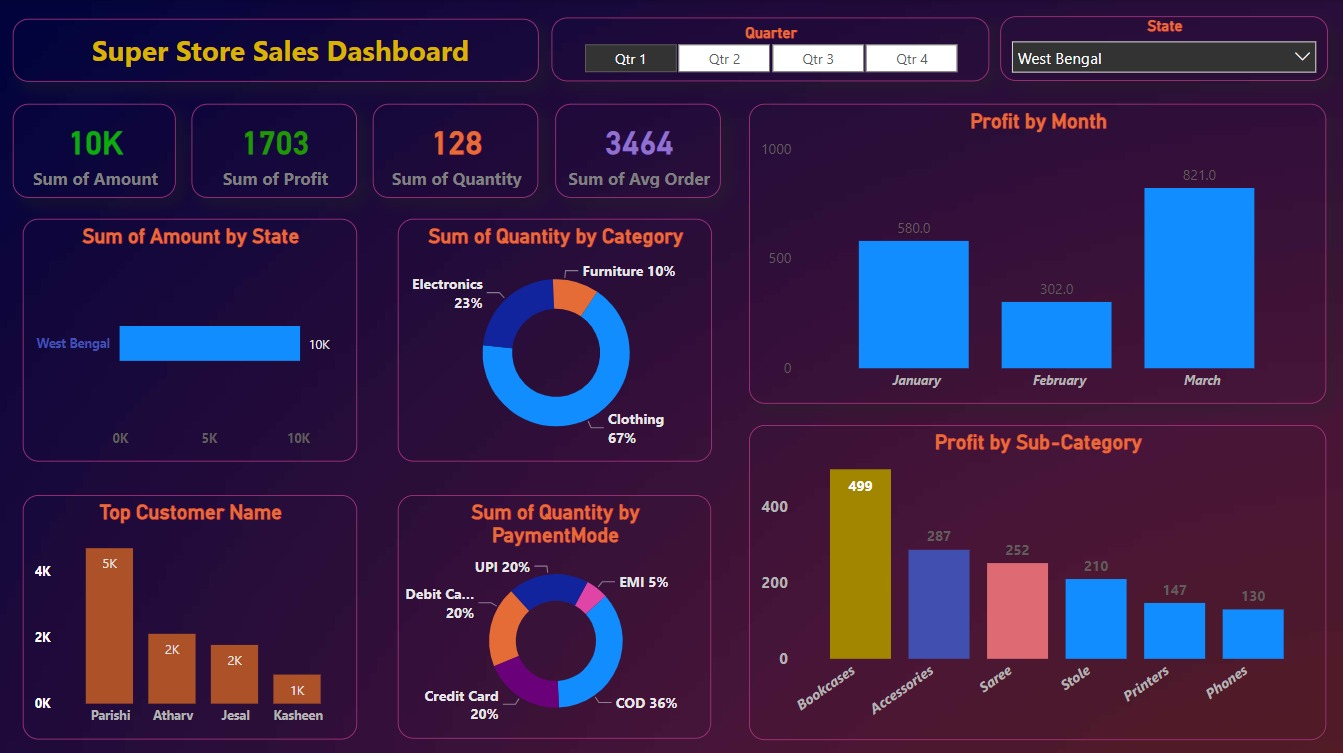

What the dashboard file says about the page in this screenshot:
{"tool":"powerbi","page":{"name":"Page 1","canvas":[1280,720],"ordinal":0},"visuals":[{"type":"textbox","box":[13.5,17.4,500.9,60.4],"z":0,"group":"g1"},{"type":"columnChart","title":"Profit by Month","fields":{"Category":["Orders.Order Date.Variation.Date Hierarchy.Month"],"Y":["Sum(Details.Profit)"]},"box":[714,98.8,549.8,285.6],"z":1000,"group":"g1"},{"type":"columnChart","title":"Profit by Sub-Category","fields":{"Category":["Details.Sub-Category"],"Y":["Sum(Details.Profit)"]},"box":[714,404.1,549.5,300.4],"z":2000,"group":"g1"},{"type":"donutChart","fields":{"Category":["Details.Category"],"Y":["Sum(Details.Quantity)"]},"box":[379.1,208.6,299.2,231.3],"z":3000,"group":"g1"},{"type":"donutChart","fields":{"Y":["Sum(Details.Quantity)"],"Category":["Details.PaymentMode"]},"box":[379.6,471.3,298.7,232.1],"z":4000,"group":"g1"},{"type":"card","fields":{"Values":["Sum(Details.Amount)"]},"box":[13.1,98.9,155,89.4],"z":5000,"group":"g1"},{"type":"card","fields":{"Values":["Sum(Details.Profit)"]},"box":[183.6,98.9,157.3,89.4],"z":6000,"group":"g1"},{"type":"card","fields":{"Values":["Sum(Details.Quantity)"]},"box":[356.4,98.9,157.3,89.4],"z":7000,"group":"g1"},{"type":"card","fields":{"Values":["Sum(Details.Avg Order)"]},"box":[529.2,98.9,157.3,89.4],"z":8000,"group":"g1"},{"type":"clusteredBarChart","fields":{"Category":["Orders.State"],"Y":["Sum(Details.Amount)"]},"box":[22.6,208.6,318.3,231.3],"z":9000,"group":"g1"},{"type":"columnChart","title":"Top Customer Name","fields":{"Category":["Orders.CustomerName"],"Y":["Sum(Details.Amount)"]},"box":[22.6,470.9,318.3,232.4],"z":10000,"group":"g1"},{"type":"slicer","title":"Quarter","fields":{"Values":["Orders.Order Date.Variation.Date Hierarchy.Quarter"]},"box":[525.6,17.1,416.5,60.7],"z":11000,"group":"g1"},{"type":"slicer","title":"State","fields":{"Values":["Orders.State"]},"box":[953.4,15.5,311.8,61.9],"z":13000,"group":"g1"},{"type":"group","id":"g1","title":"Group 1","box":[13.1,15.5,1252,689.1],"z":13001}]}

Visuals, with their boxes in screenshot pixels (x1, y1, x2, y2), scaled from the page's 1280x720 canvas onto the 1343x753 screenshot:
textbox: [14, 18, 540, 81]
"Profit by Month" columnChart: [749, 103, 1326, 402]
"Profit by Sub-Category" columnChart: [749, 423, 1326, 737]
donutChart - Details.Category x Sum(Details.Quantity): [398, 218, 712, 460]
donutChart - Sum(Details.Quantity) x Details.PaymentMode: [398, 493, 712, 736]
card - Sum(Details.Amount): [14, 103, 176, 197]
card - Sum(Details.Profit): [193, 103, 358, 197]
card - Sum(Details.Quantity): [374, 103, 539, 197]
card - Sum(Details.Avg Order): [555, 103, 720, 197]
clusteredBarChart - Orders.State x Sum(Details.Amount): [24, 218, 358, 460]
"Top Customer Name" columnChart: [24, 492, 358, 736]
"Quarter" slicer: [551, 18, 988, 81]
"State" slicer: [1000, 16, 1327, 81]
"Group 1" group: [14, 16, 1327, 737]
